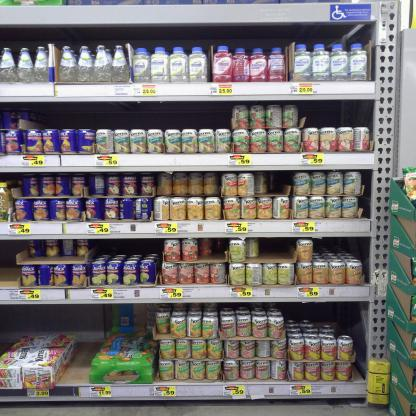Void: (30, 104, 229, 127), (3, 308, 67, 335), (70, 309, 90, 377), (302, 104, 365, 125), (289, 303, 351, 323), (97, 241, 159, 254), (260, 240, 290, 257), (320, 241, 360, 253), (270, 174, 285, 188)
